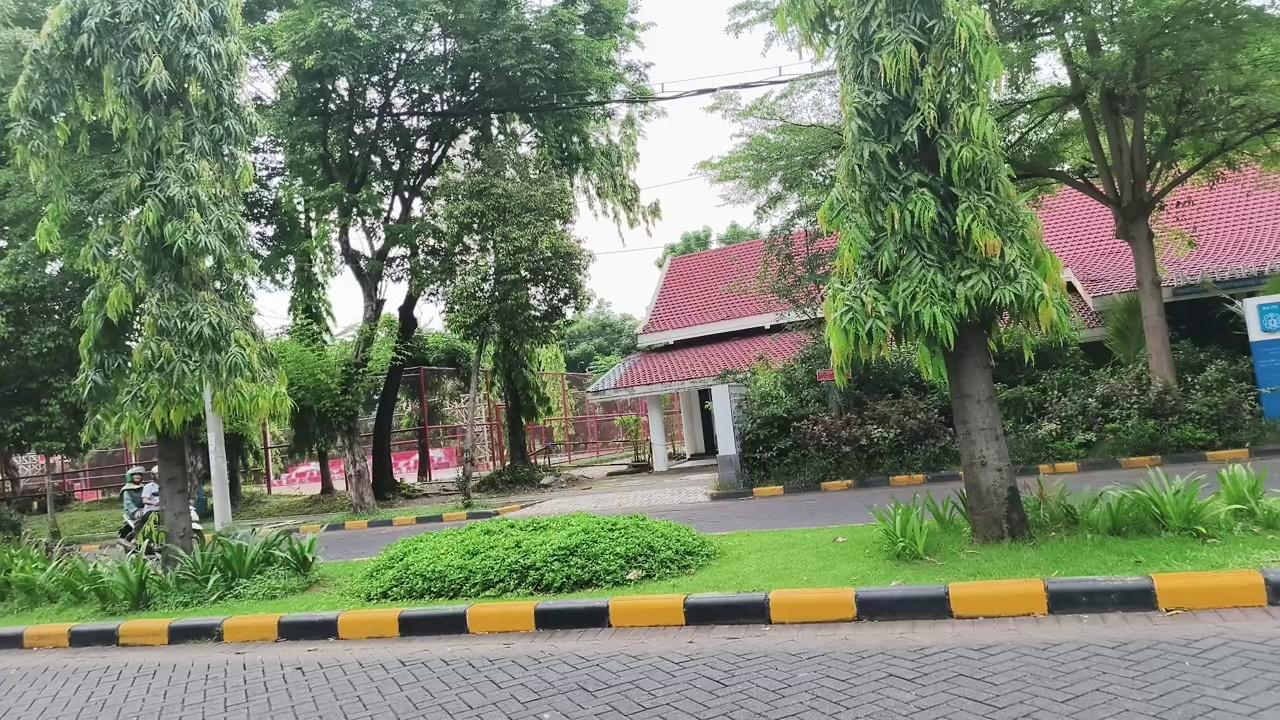Motor: (118, 511, 166, 553)
